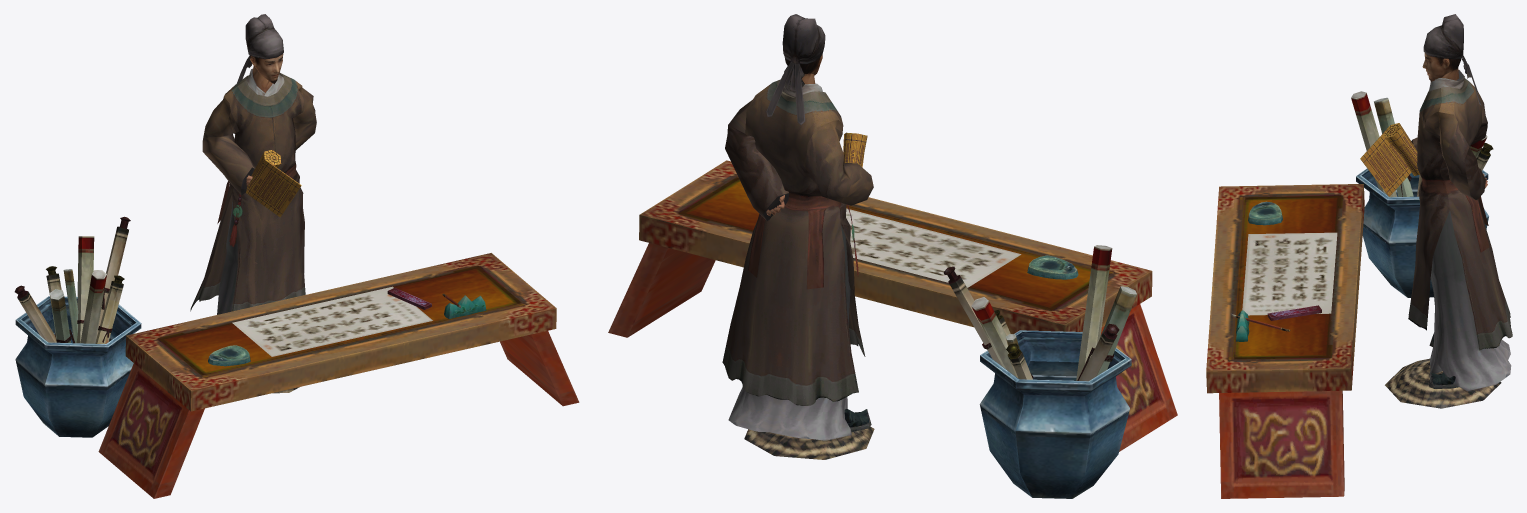
File: ShuSheng.FBX
3 renders of one model, left to right at view 1: azimuth 30°, elevation 25°; view 2: azimuth 150°, elevation 25°; view 3: azimuth 270°, elevation 25°, orthographic. The views are drawn at different scales.
Visible parts, largest first — view 1: DrawCall_0517, DrawCall_0866, DrawCall_0543, DrawCall_0538, DrawCall_0552, DrawCall_0556; view 2: DrawCall_0866, DrawCall_0517, DrawCall_0543, DrawCall_0538, DrawCall_0556, DrawCall_0513, DrawCall_0552; view 3: DrawCall_0517, DrawCall_0866, DrawCall_0538, DrawCall_0543, DrawCall_0513, DrawCall_0552, DrawCall_0556.
Boxes of the visible parts, box(x1,y1,x2,y2) form: DrawCall_0517: box(98, 253, 579, 498); DrawCall_0866: box(190, 65, 316, 314); DrawCall_0543: box(14, 216, 141, 437); DrawCall_0538: box(208, 286, 486, 366); DrawCall_0552: box(246, 150, 301, 217); DrawCall_0556: box(237, 14, 283, 84); DrawCall_0866: box(722, 73, 873, 440); DrawCall_0517: box(608, 160, 1177, 451); DrawCall_0543: box(943, 245, 1136, 498); DrawCall_0538: box(846, 208, 1078, 287); DrawCall_0556: box(766, 14, 825, 124); DrawCall_0513: box(744, 426, 874, 459); DrawCall_0552: box(843, 132, 867, 167); DrawCall_0517: box(1206, 184, 1364, 498); DrawCall_0866: box(1408, 67, 1512, 390); DrawCall_0538: box(1230, 201, 1337, 341); DrawCall_0543: box(1351, 91, 1493, 297); DrawCall_0513: box(1385, 358, 1501, 408); DrawCall_0552: box(1360, 123, 1419, 196); DrawCall_0556: box(1422, 14, 1481, 105).
Size of the model in its own units: 282 by 207 by 153.
